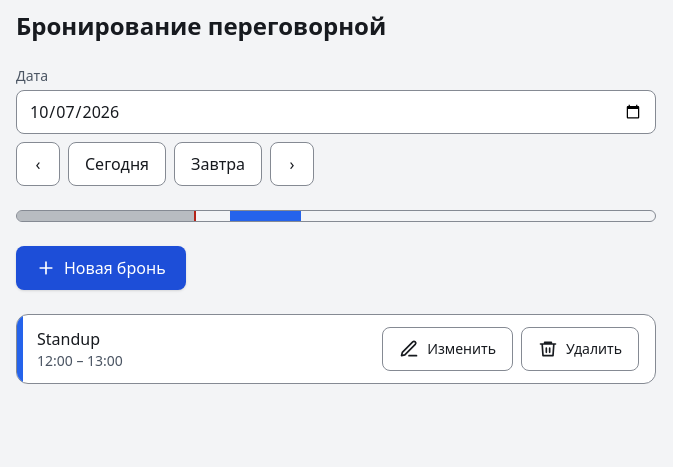
design stage 1: form and confirm roles › delete confirm: role=group with the interval, buttons «Отмена» / «Удалить», no dialog
What coordinates should you click on to do the following:
click the button with aria-label "Удалить бронь 12:00–13:00"
I would click on:
 (580, 349)
Its box is [521, 327, 639, 371].
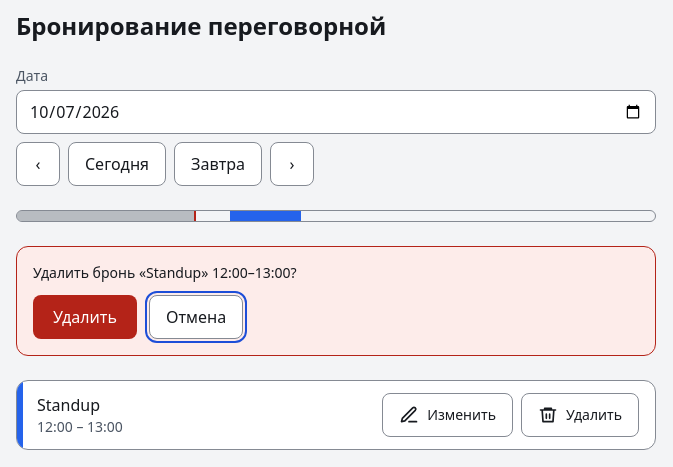
Now the element showing "Удалить бронь «Standup» 12:00–13:00? Удалить Отмена" is shown, box [16, 246, 656, 356]
Now the button "Отмена" is shown, box [149, 295, 243, 339]
Now the button "Удалить" below "Удалить бронь «" is shown, box [33, 295, 137, 339]
